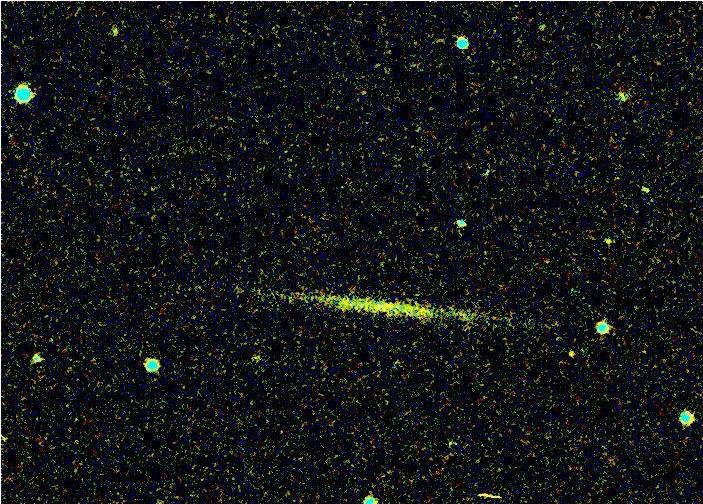star: (567, 339, 597, 369)
